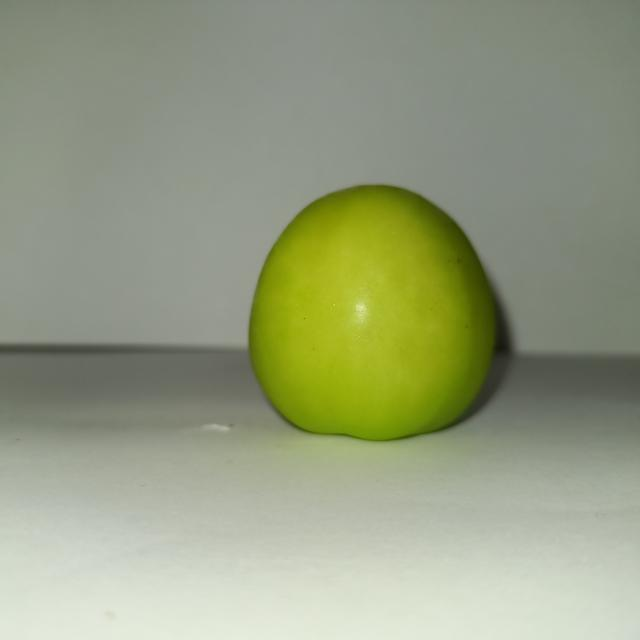Red: (246, 182, 501, 442)
